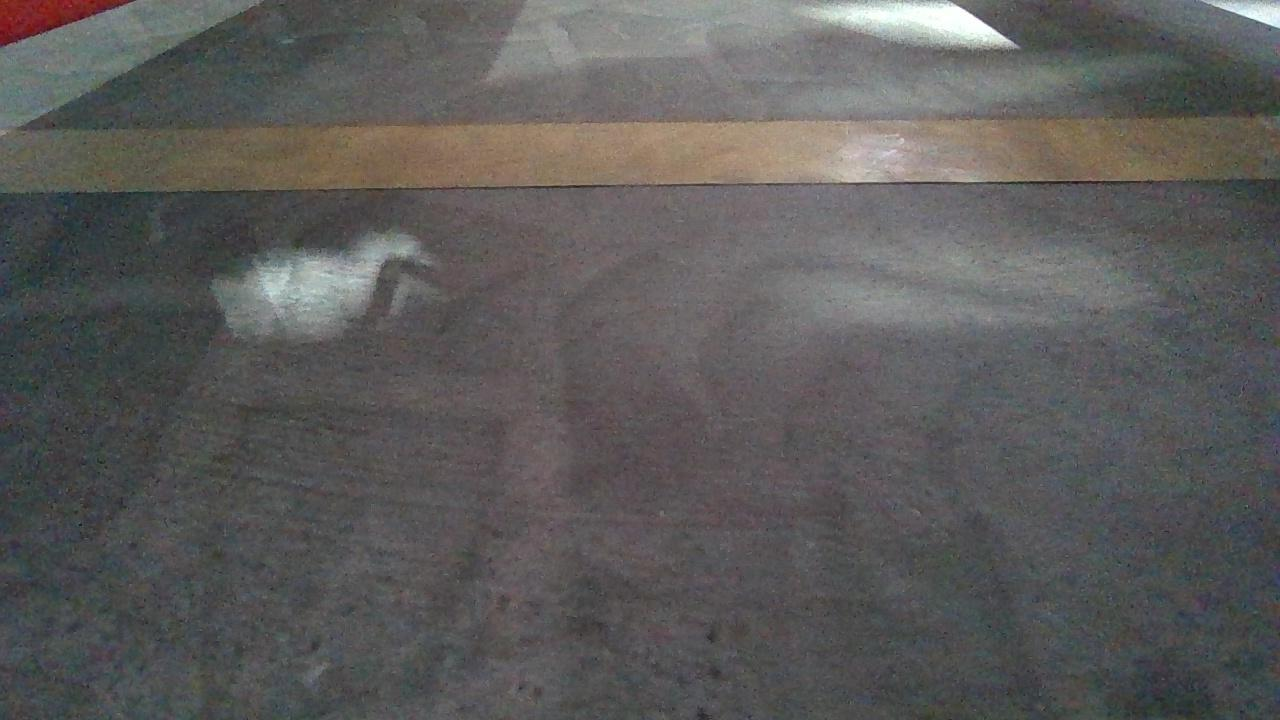yellow_line: (4, 129, 1278, 183)
